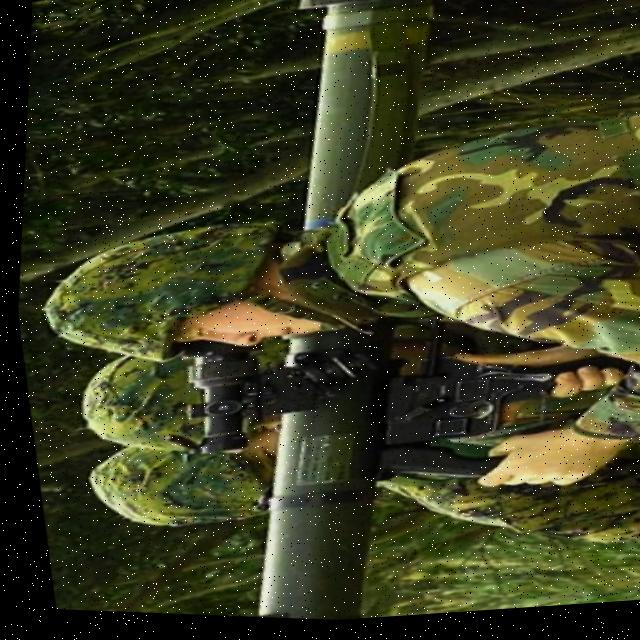rocket: (53, 0, 592, 637)
